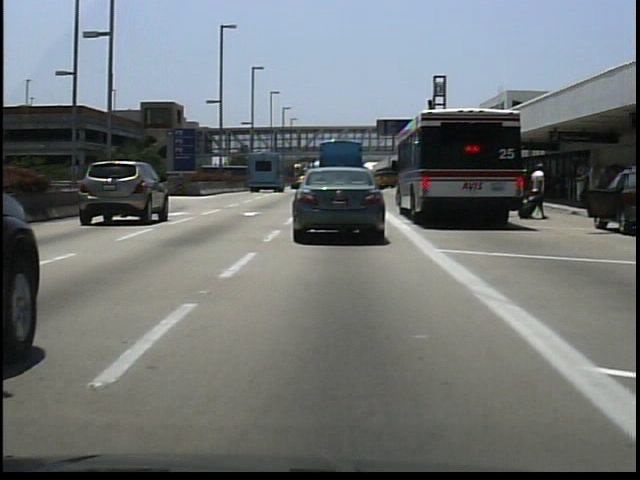person: (527, 160, 549, 221)
